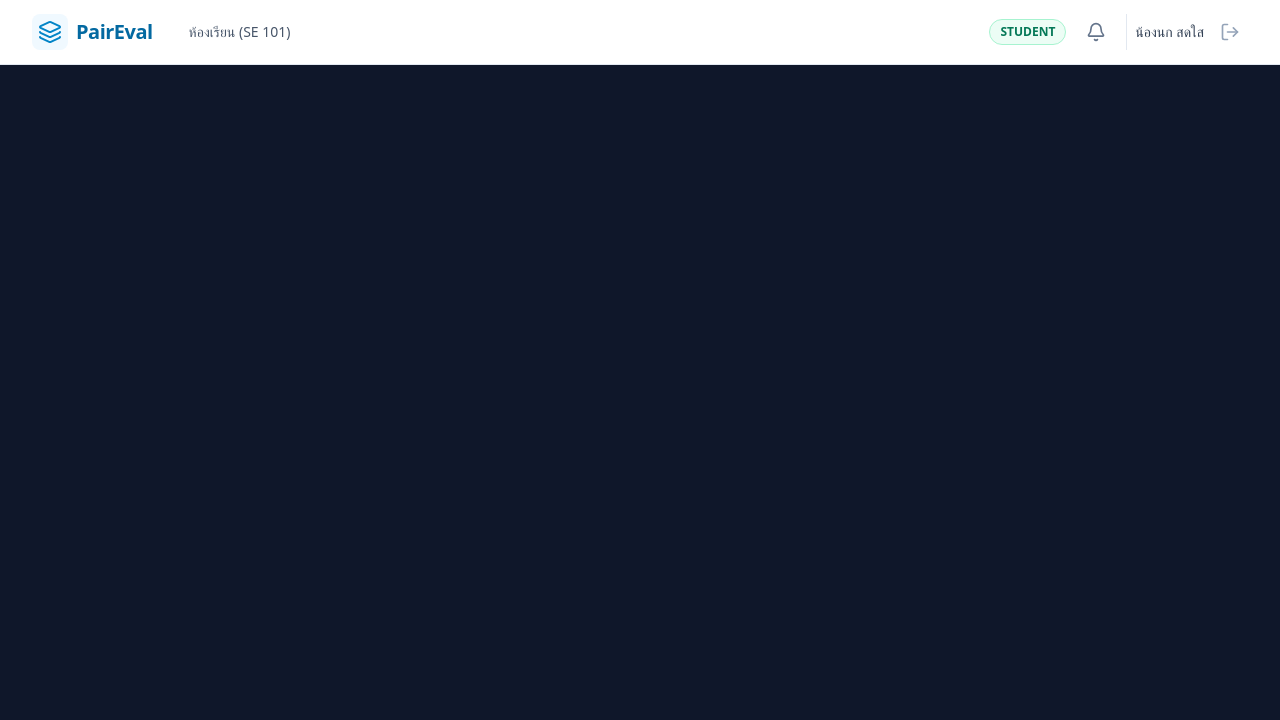
Test: Navbar Logout Confirmation › cancels logout when clicking cancel in the modal
The width and height of the screenshot is (1280, 720).
Click the button with test id "logout-btn" at [1230, 32], box [1212,14,1248,50]
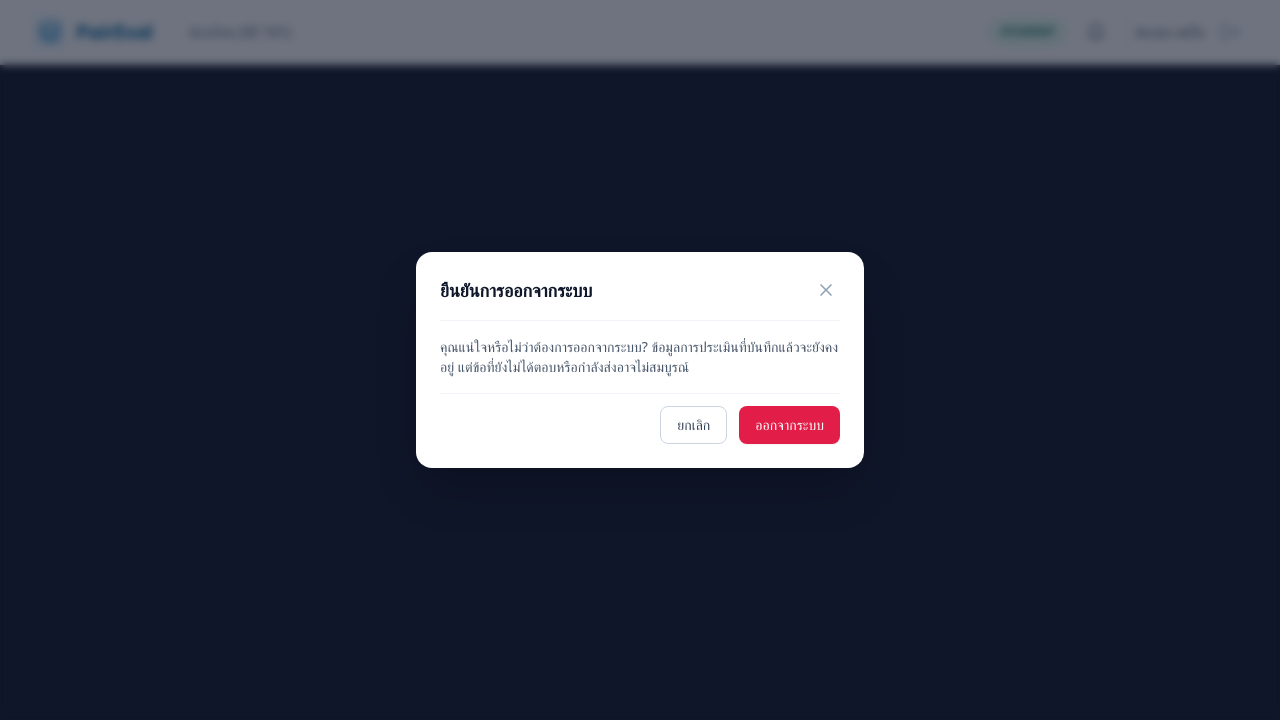
Expected: the heading "ยืนยันการออกจากระบบ" is shown, [440,276,592,304]
Click the button with test id "cancel-logout-btn" at [694, 425], box [660,406,727,444]
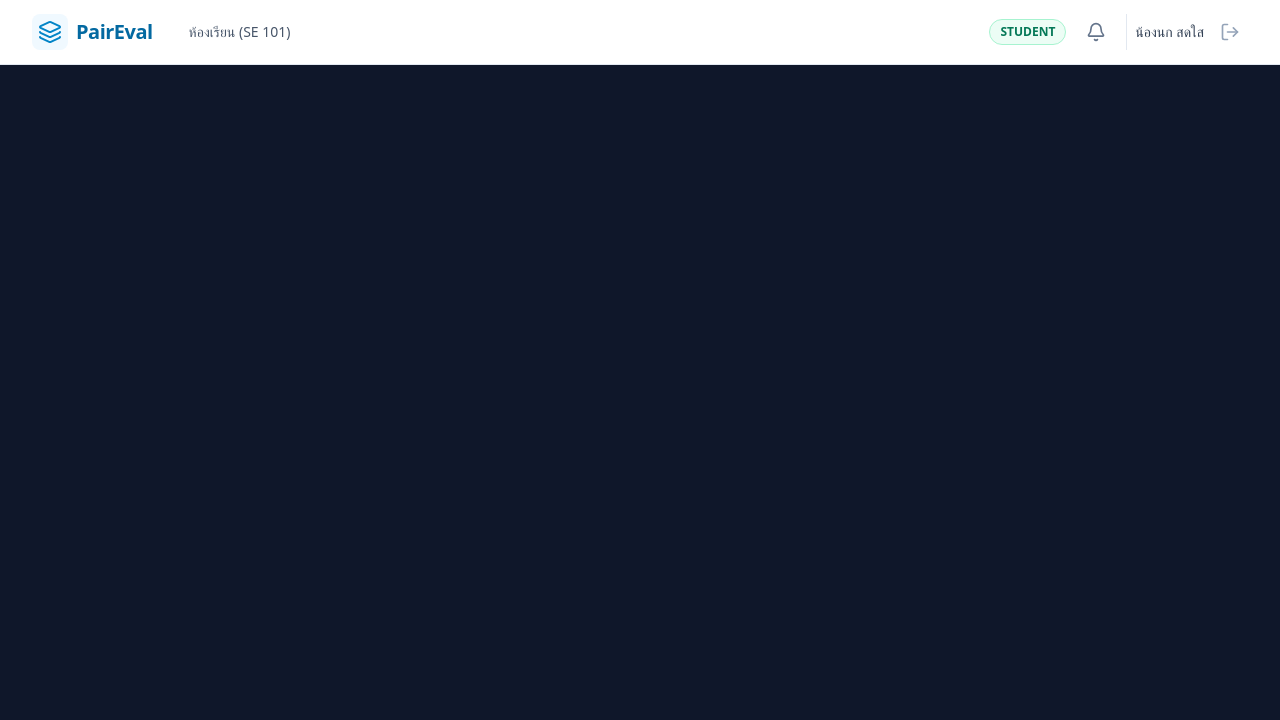
Expected: the heading "ยืนยันการออกจากระบบ" is gone
